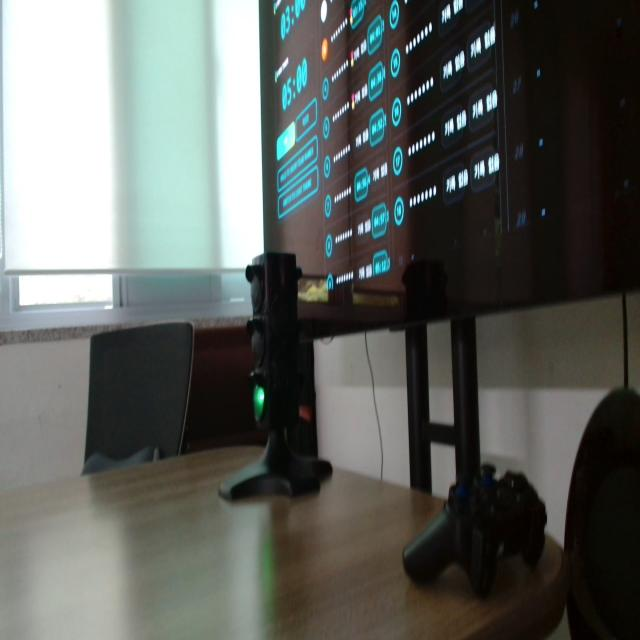green_light: (253, 385, 265, 421)
